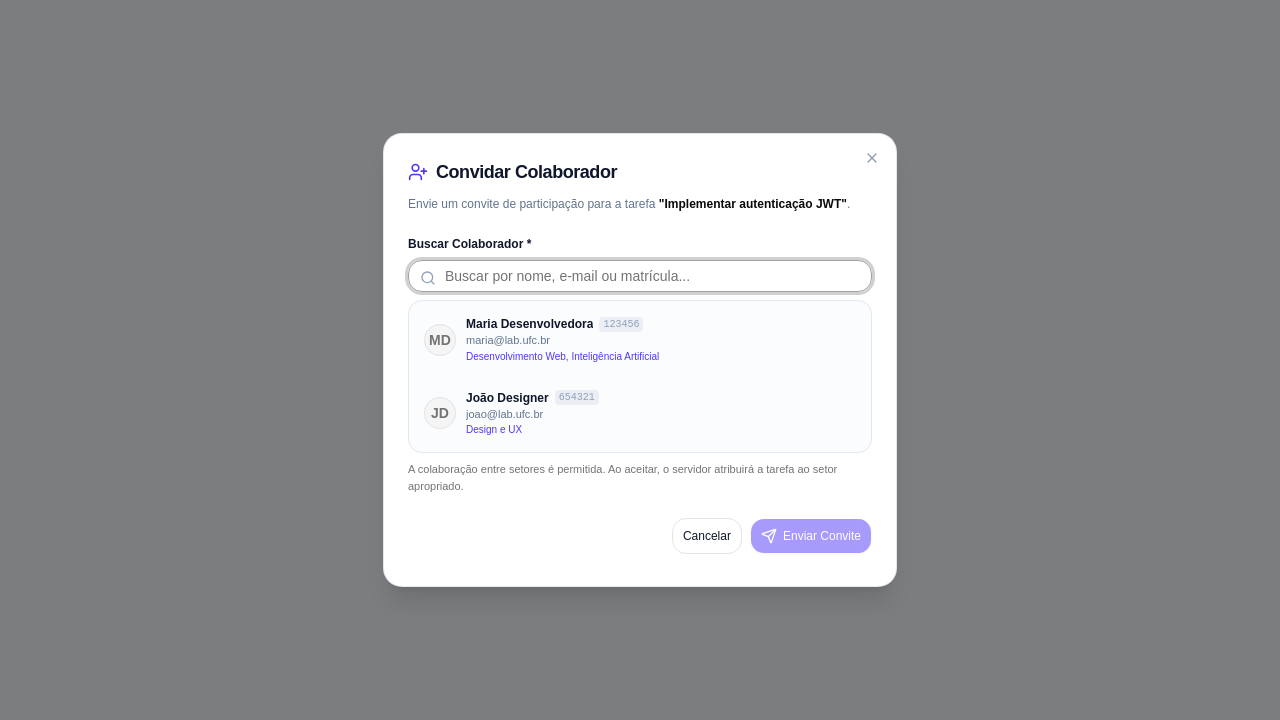
Test: InviteCollaboratorModal › permite selecionar um colaborador e exibe o card de confirmação com dados
Click the text "Maria Desenvolvedora": (530, 324) x1=466 y1=316 x2=593 y2=332
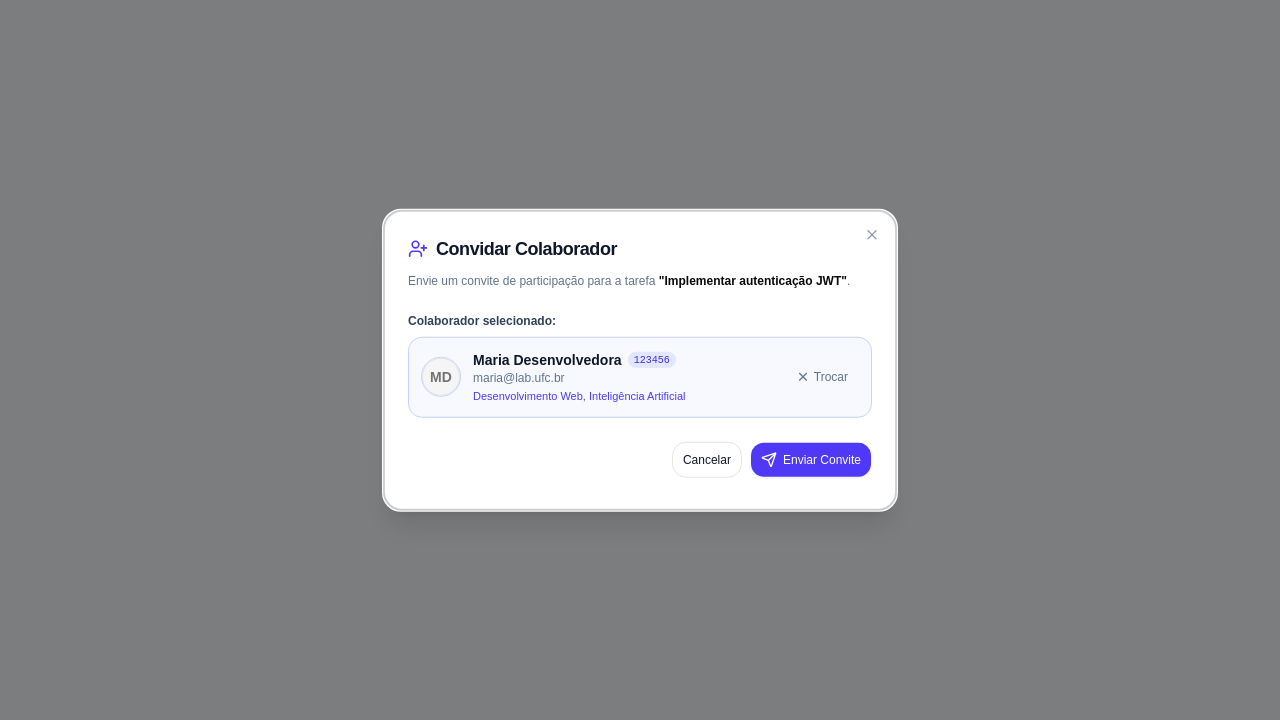
Check: the text "maria@lab.ufc.br" is shown, box x1=473 y1=371 x2=564 y2=385
Check: the text "Colaborador selecionado:" is shown, box x1=408 y1=314 x2=556 y2=328
Check: the button "Trocar" is shown, box x1=785 y1=361 x2=859 y2=393
